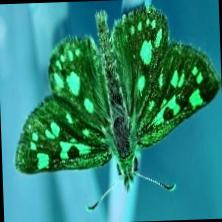butterfly: (15, 5, 221, 188)
